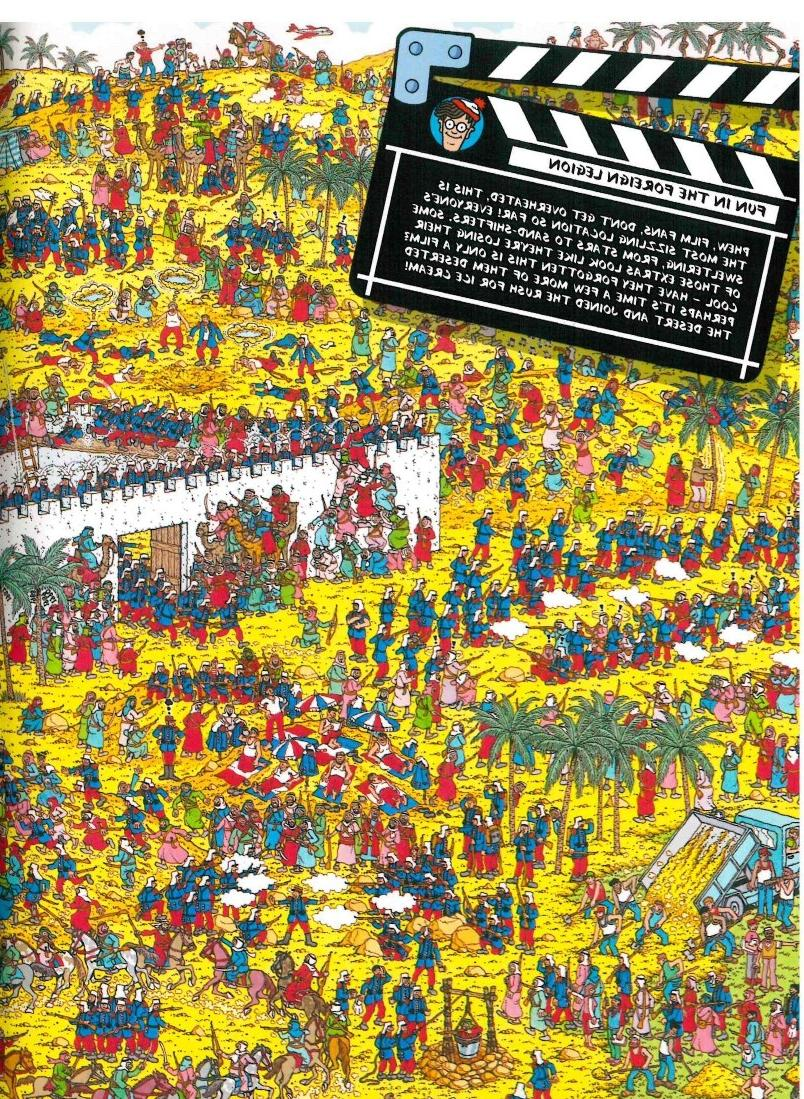waldos: (634, 506, 648, 529)
